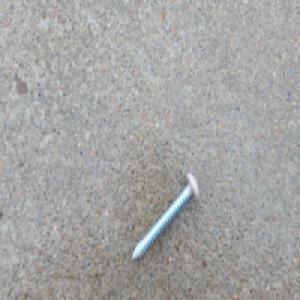Nail: (130, 170, 199, 263)
